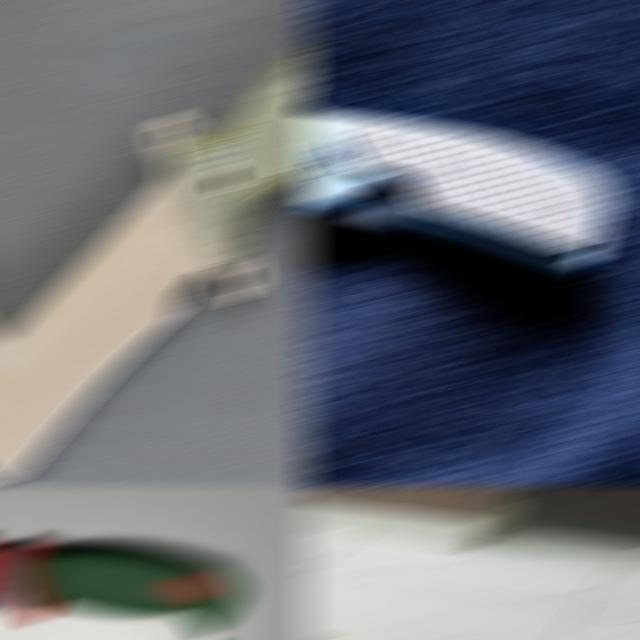Knife: (0, 539, 246, 633)
